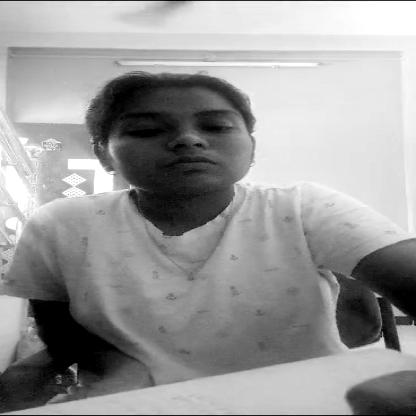Normal: (88, 81, 268, 196)
